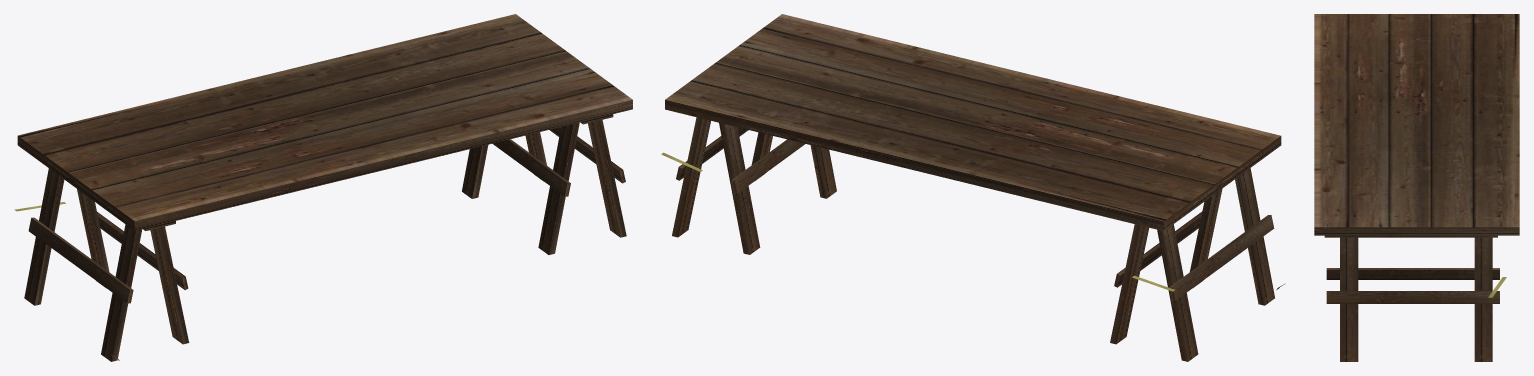
The model's file is table1.obj.
3 renders of one model, left to right at view 1: azimuth 30°, elevation 25°; view 2: azimuth 150°, elevation 25°; view 3: azimuth 270°, elevation 25°, orthographic. The views are drawn at different scales.
Parts seen in each view (by area): view 1: table1; view 2: table1; view 3: table1.
Boxes of the visible parts, box(x1,y1,x2,y2) form: table1: box(14, 14, 632, 361); table1: box(661, 14, 1285, 361); table1: box(1314, 14, 1519, 361).
Size of the model in its own units: 108 by 29.08 by 41.33.
